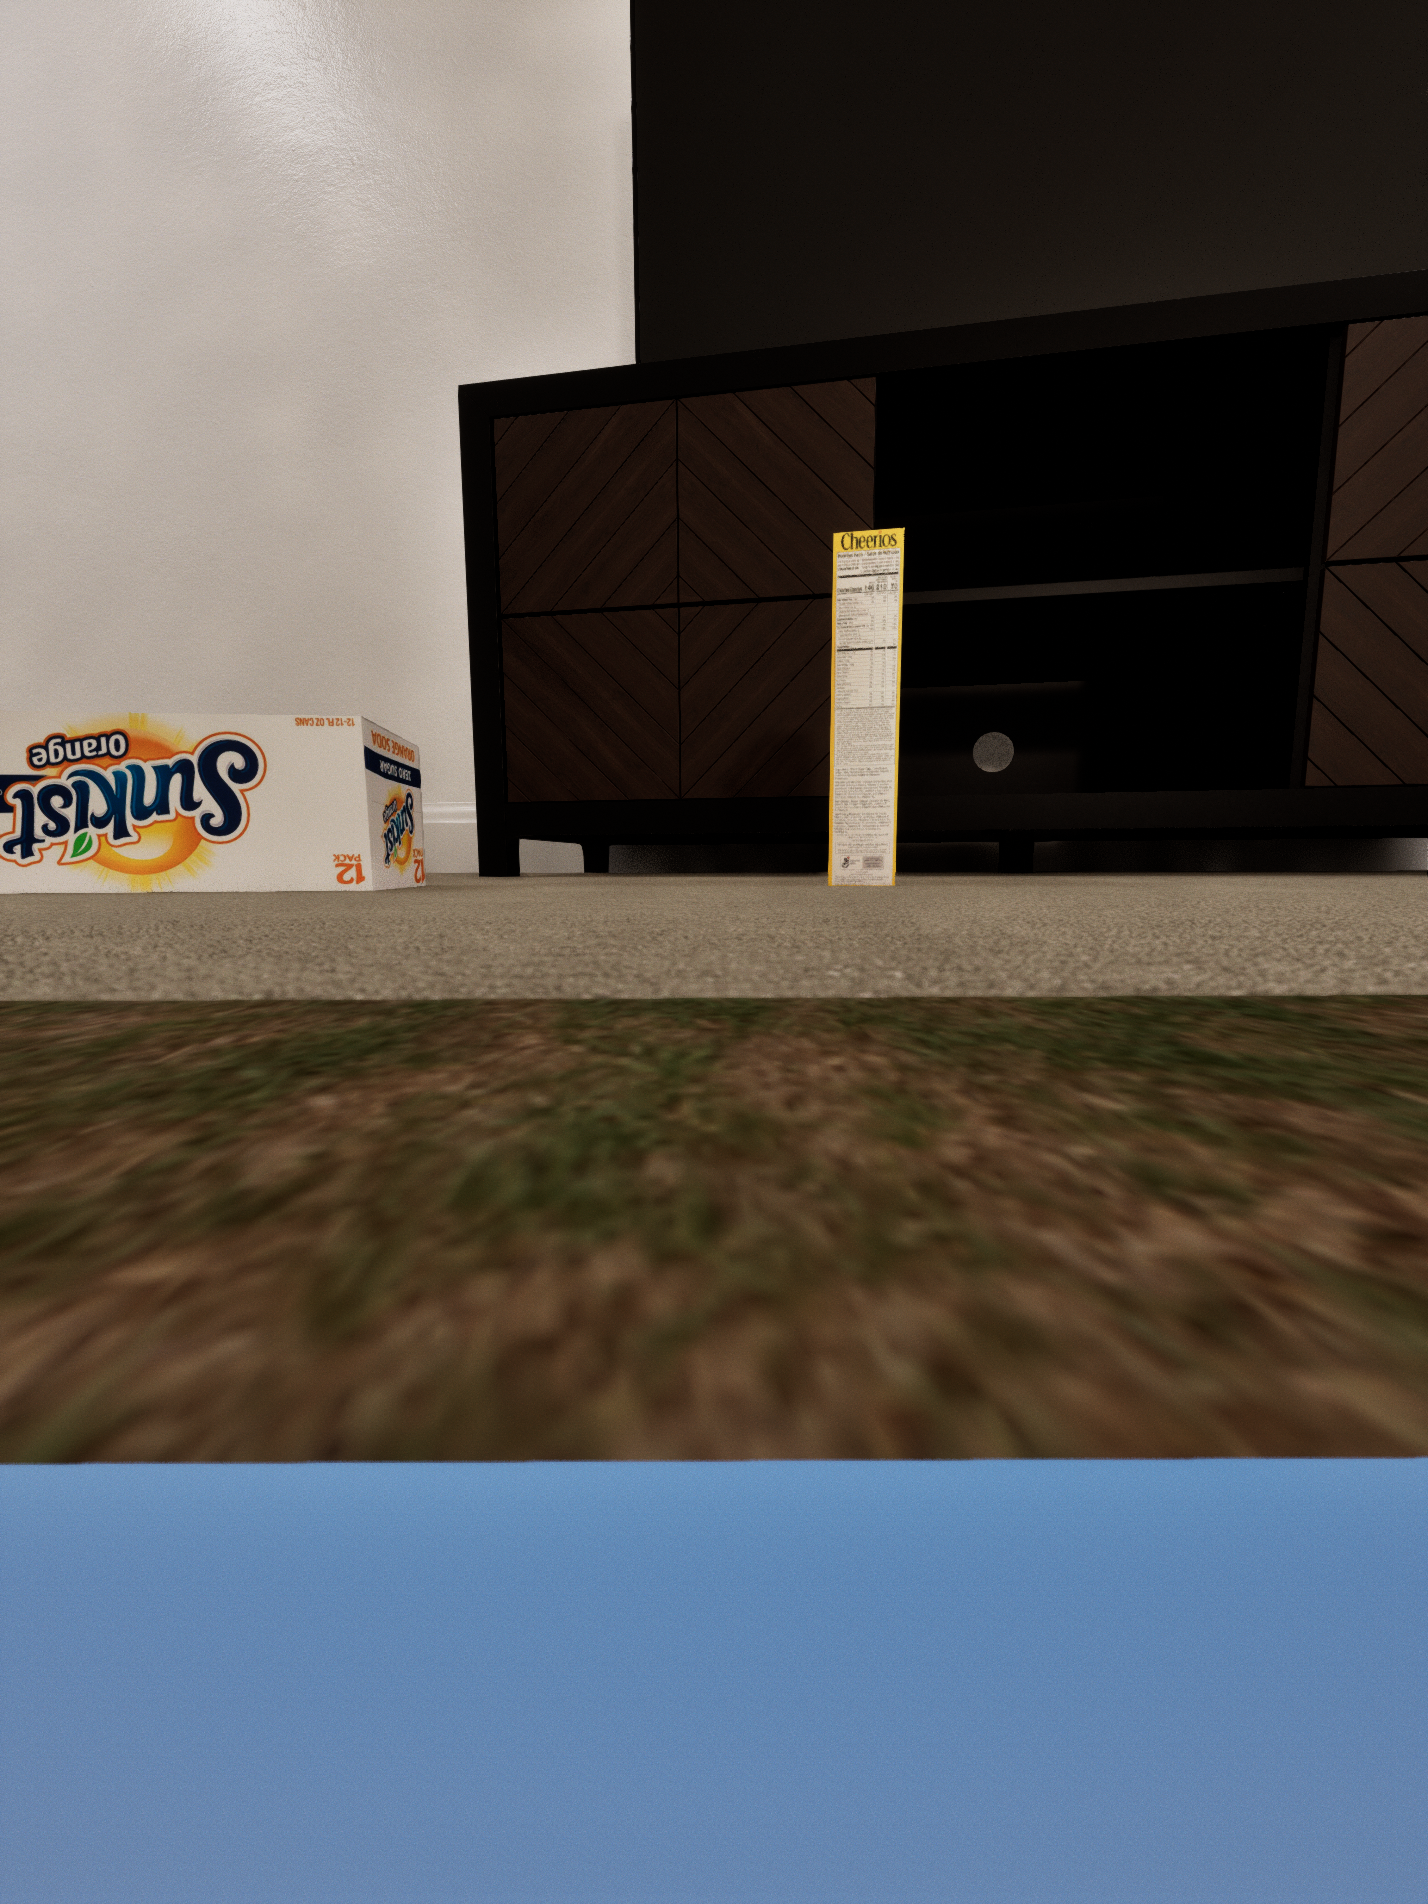cheerios: (828, 528, 904, 886)
